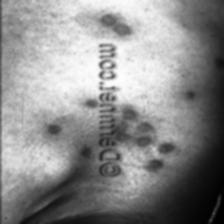Toxin: (100, 12, 132, 42), (40, 118, 62, 136)
